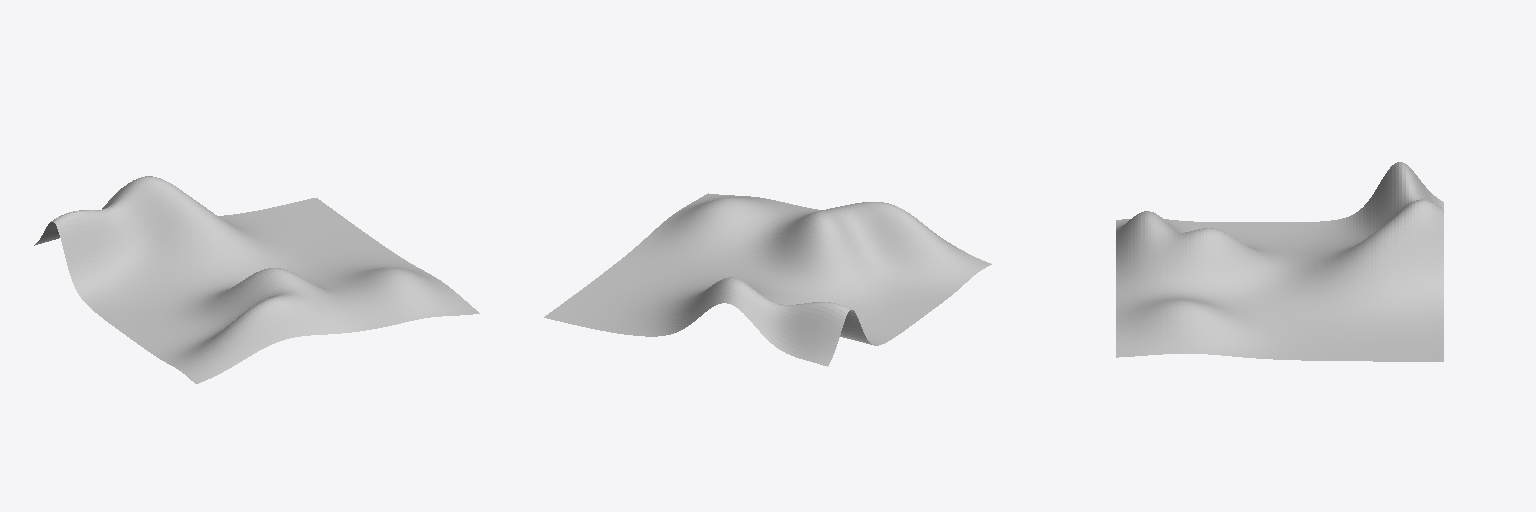
File: simple_mountain.obj
3 renders of one model, left to right at view 1: azimuth 30°, elevation 25°; view 2: azimuth 150°, elevation 25°; view 3: azimuth 270°, elevation 25°, orthographic.
Parts seen in each view (by area): view 1: Mountain_8Peaks_150Height_42Seed; view 2: Mountain_8Peaks_150Height_42Seed; view 3: Mountain_8Peaks_150Height_42Seed.
Part boxes in pixels (left/top/right/bottom): Mountain_8Peaks_150Height_42Seed: left=34, top=176, right=479, bottom=383; Mountain_8Peaks_150Height_42Seed: left=544, top=193, right=991, bottom=366; Mountain_8Peaks_150Height_42Seed: left=1116, top=162, right=1443, bottom=361.
Bounding box in the file's own units: 995 × 242 × 995.